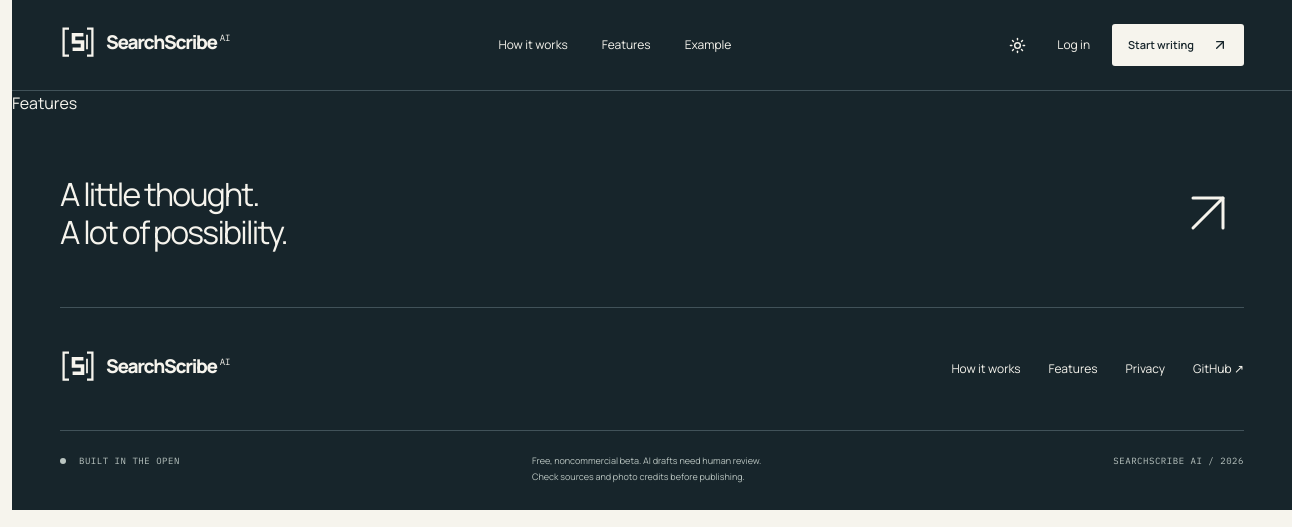
Test: stored theme survives a public page remount and can be changed back
The image size is (1292, 527).
Step 1. Click the button named "Use light theme" → (1017, 45), box [999,27,1035,63]
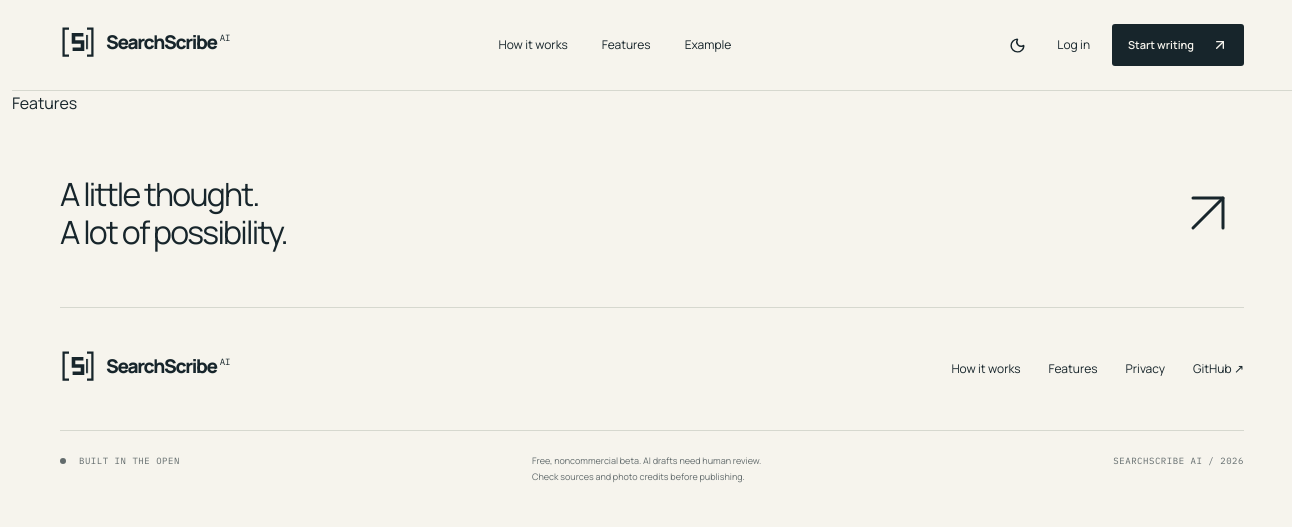
expect the button named "Use dark theme" is shown: met, box [999,27,1035,63]
